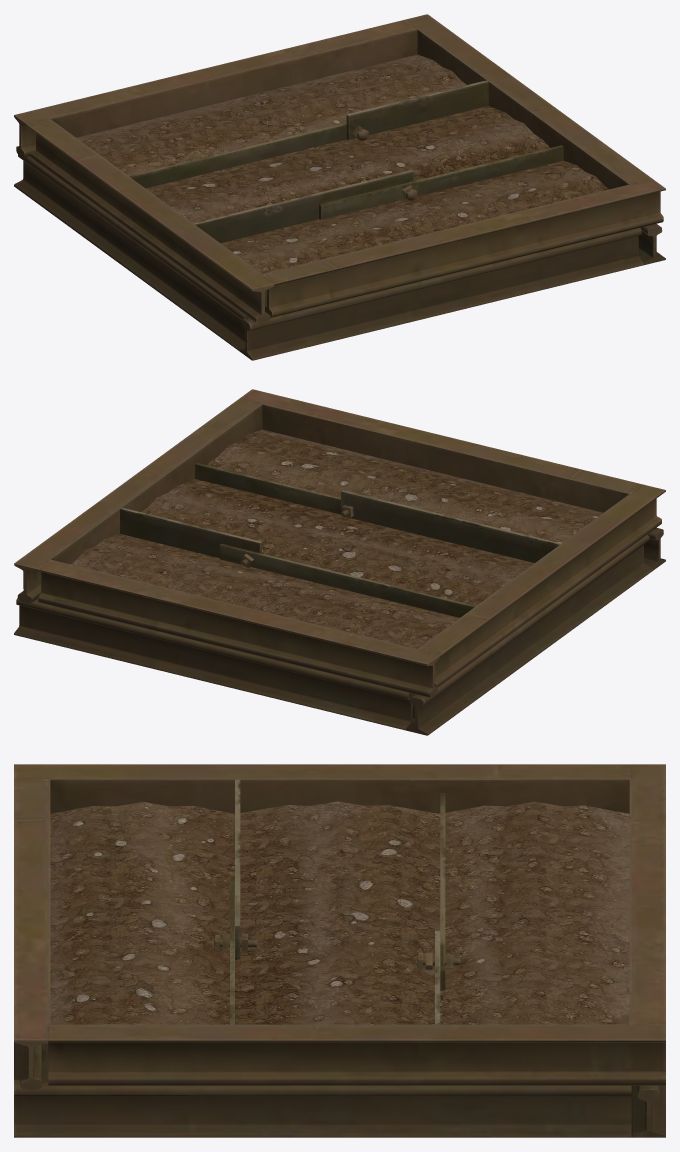
File: railroadplanter.deployed.glb
3 renders of one model, top to bottom at view 1: azimuth 30°, elevation 25°; view 2: azimuth 150°, elevation 25°; view 3: azimuth 270°, elevation 25°, orthographic. The views are drawn at different scales.
Visible parts, largest first — view 1: RailRoadPlanter_LOD0, DirtPlane_LP; view 2: RailRoadPlanter_LOD0, DirtPlane_LP; view 3: DirtPlane_LP, RailRoadPlanter_LOD0.
Part boxes in pixels (x1,y1,x2,y2): RailRoadPlanter_LOD0: (14,14,665,360); DirtPlane_LP: (76,54,609,273); RailRoadPlanter_LOD0: (14,389,665,735); DirtPlane_LP: (70,429,603,648); DirtPlane_LP: (50,801,629,1024); RailRoadPlanter_LOD0: (14,764,665,1137).
Bounding box in the file's own units: 3 × 0.4938 × 2.99.
2 materials, 2 textured.
